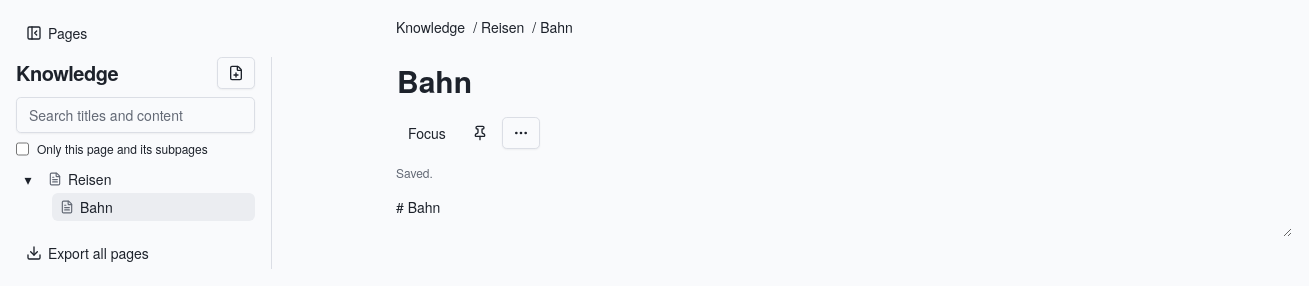
Knowledge › deletes a page and goes back to the tree
Click the button named "Page actions".
click(521, 133)  # box x1=502 y1=117 x2=540 y2=149
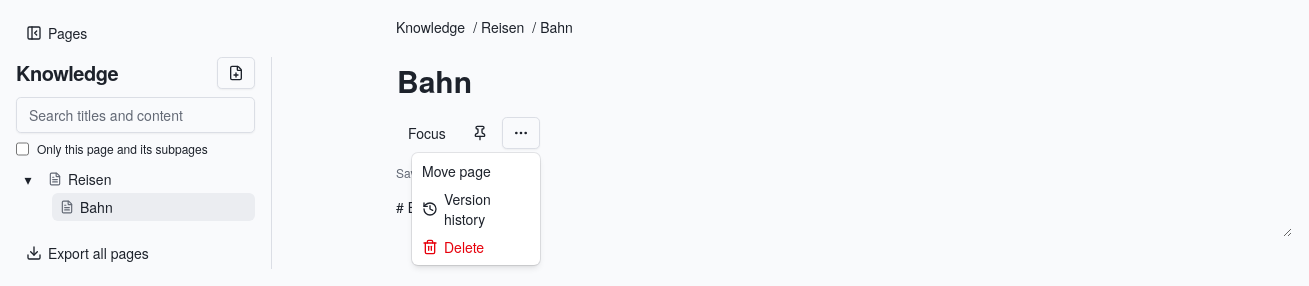
Click the menu item with aria-label "Delete Bahn".
click(453, 247)  # box x1=422 y1=237 x2=484 y2=257
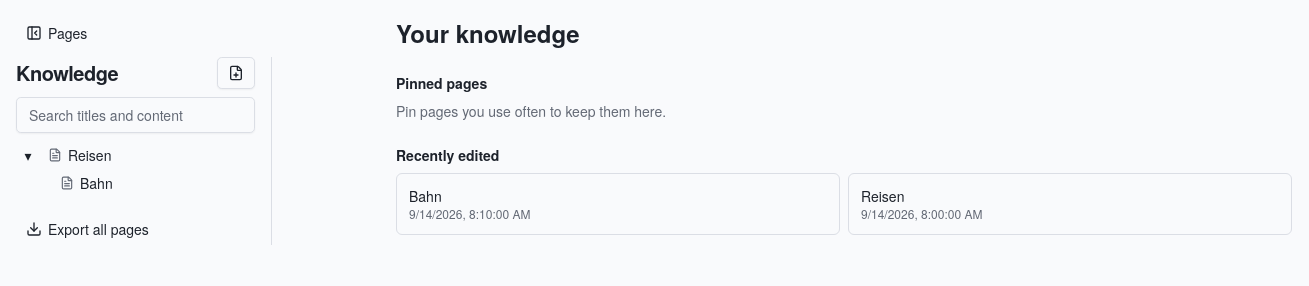
Result: the heading "Your knowledge" is shown at x1=396 y1=16 x2=580 y2=50
